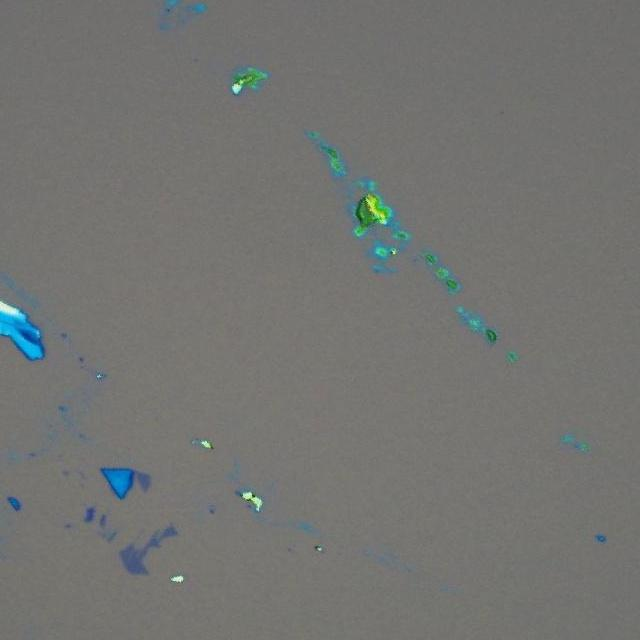monolayer-eWW4: (116, 520, 180, 576), (136, 470, 152, 492)
